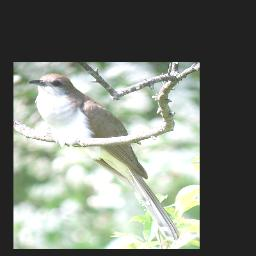Cuckoo: (28, 73, 183, 243)
